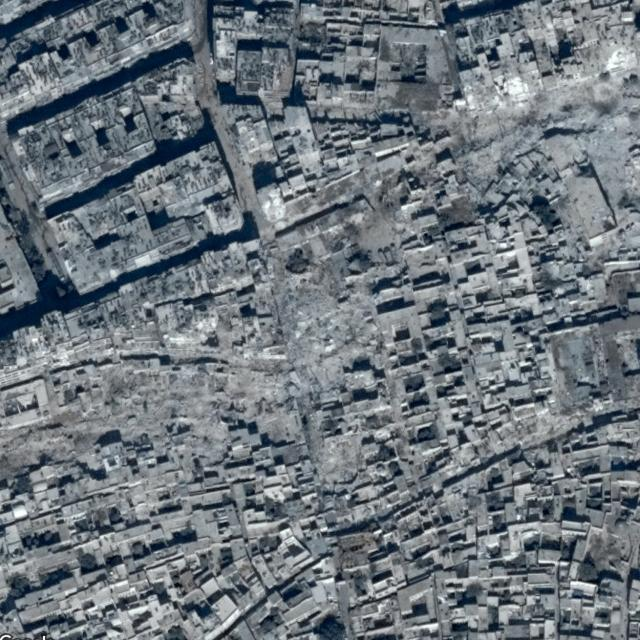damaged_building: (0, 171, 435, 484), (456, 48, 640, 189)
